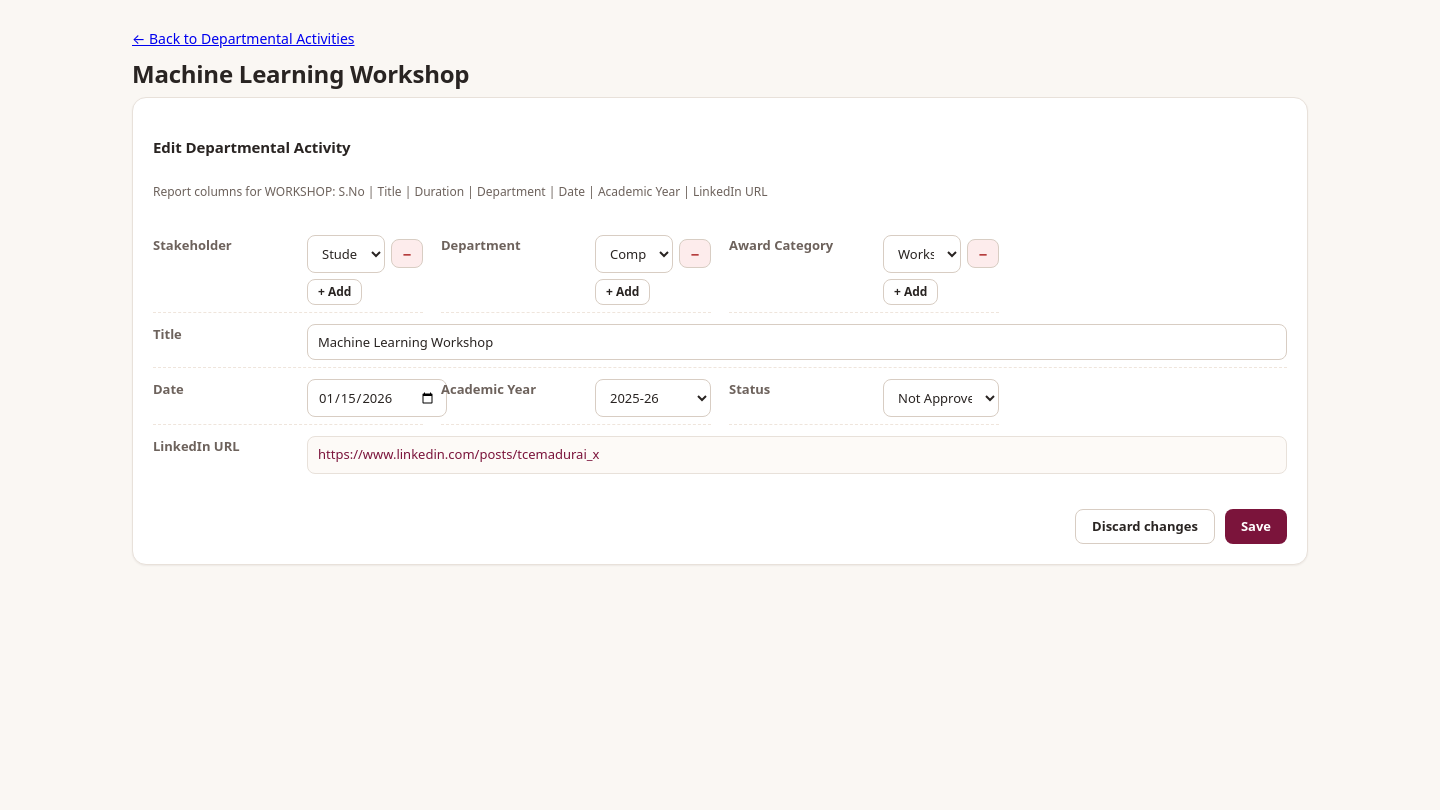
Test case: LinkedIn Admin Departmental Detail › adds a second department (non-General) and sends both in the PATCH payload
Expected: the dropdown labelled "Department" is shown, [595, 235, 673, 273]
The "Add Department" button appears below the first row.
Click the button with aria-label "Add Department" at {"x": 623, "y": 292}, box [595, 279, 650, 305]
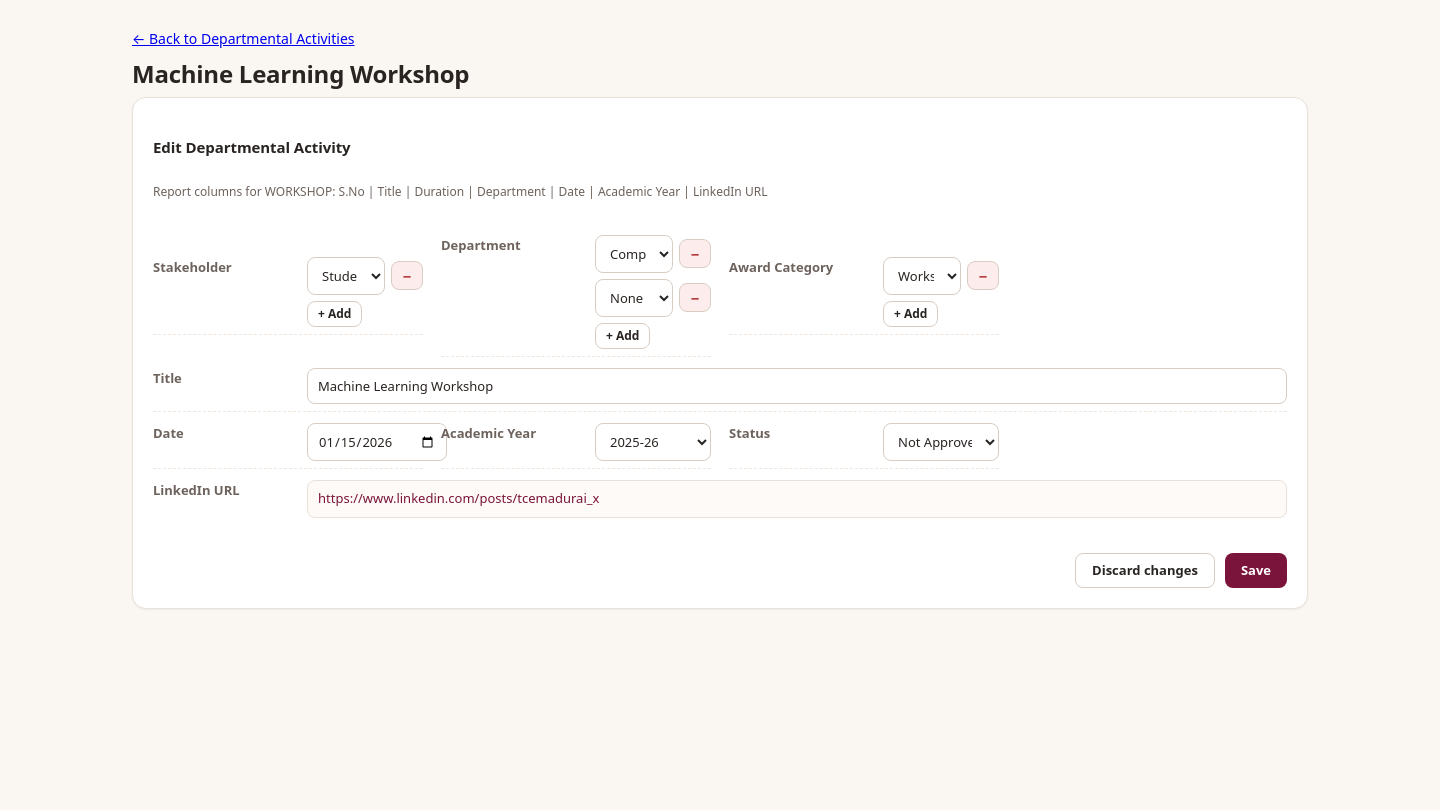
Select "Information Technology" in the dropdown named "Department 2" at {"x": 634, "y": 298}, box [595, 279, 673, 317]
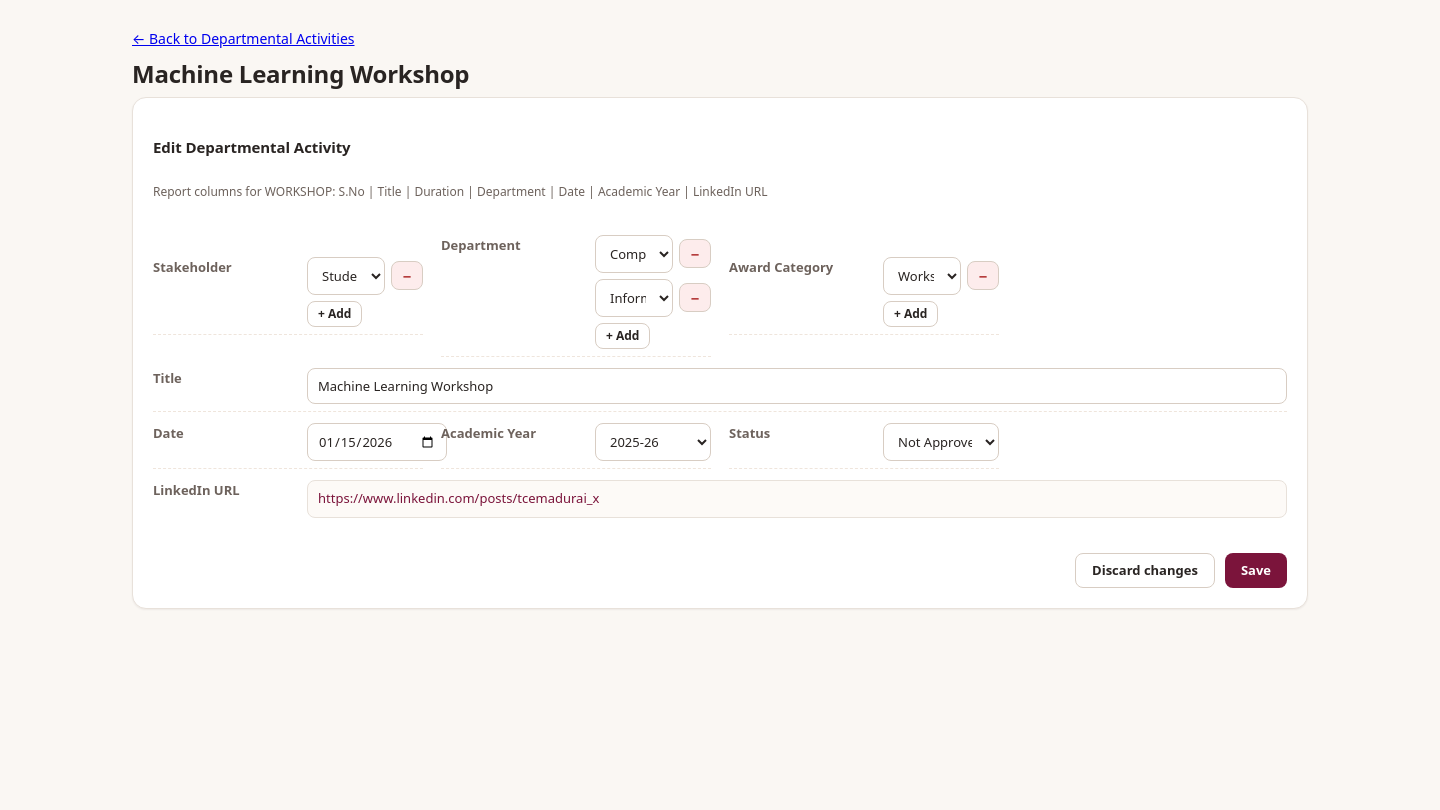
Click the button "Save" at {"x": 1256, "y": 570}, box [1225, 553, 1287, 588]
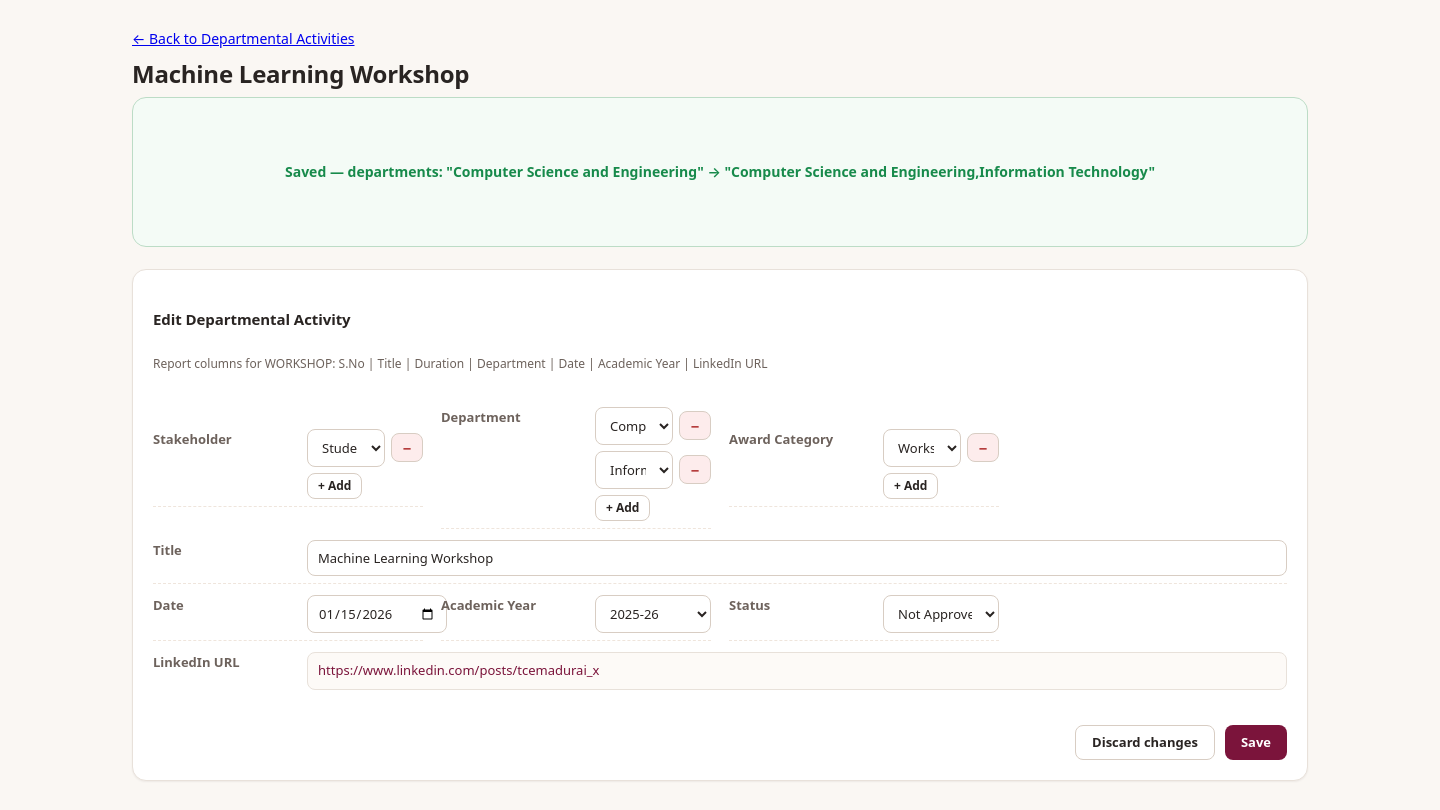
Now the text "Saved" is shown, box [285, 162, 1155, 181]
